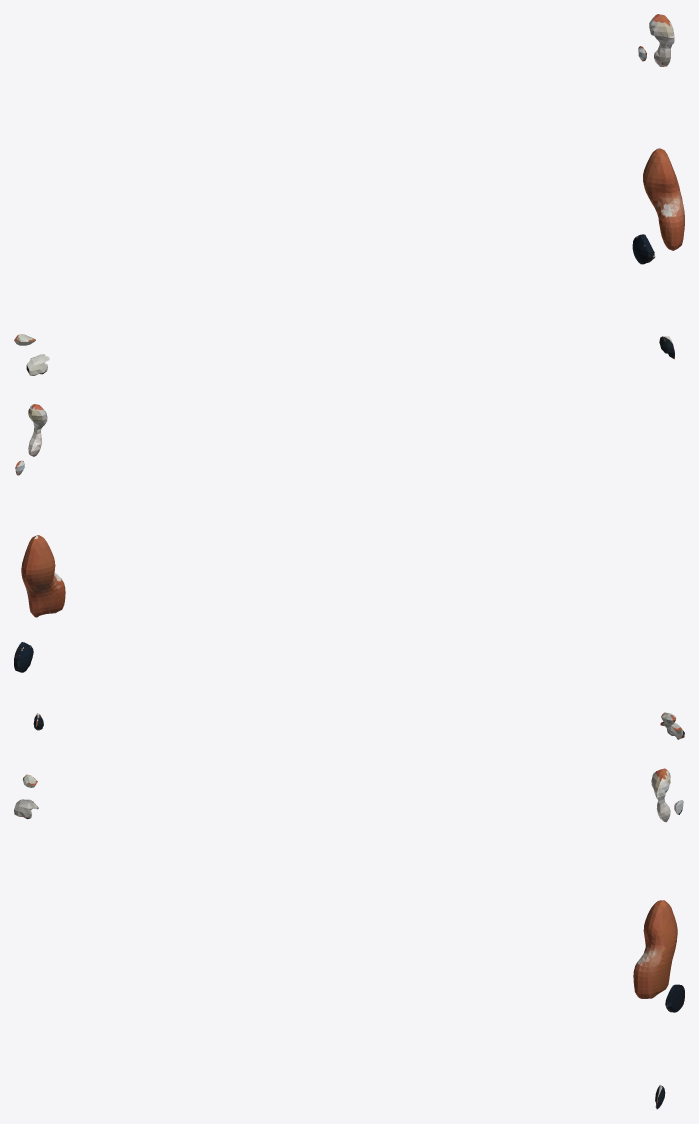
3 views of the same model, one above another, from view 1: azimuth 30°, elevation 25°; view 2: azimuth 150°, elevation 25°; view 3: azimuth 330°, elevation 25° (orthographic).
Visible parts, largest first — view 1: geometry_0; view 2: geometry_0; view 3: geometry_0.
Part boxes in pixels (<box>): geometry_0: <box>14,14,684,375</box>; geometry_0: <box>14,404,684,739</box>; geometry_0: <box>14,768,684,1109</box>.
Size of the model in its own units: 0.8179 by 0.3984 by 0.0944.
1 material, 1 textured.
